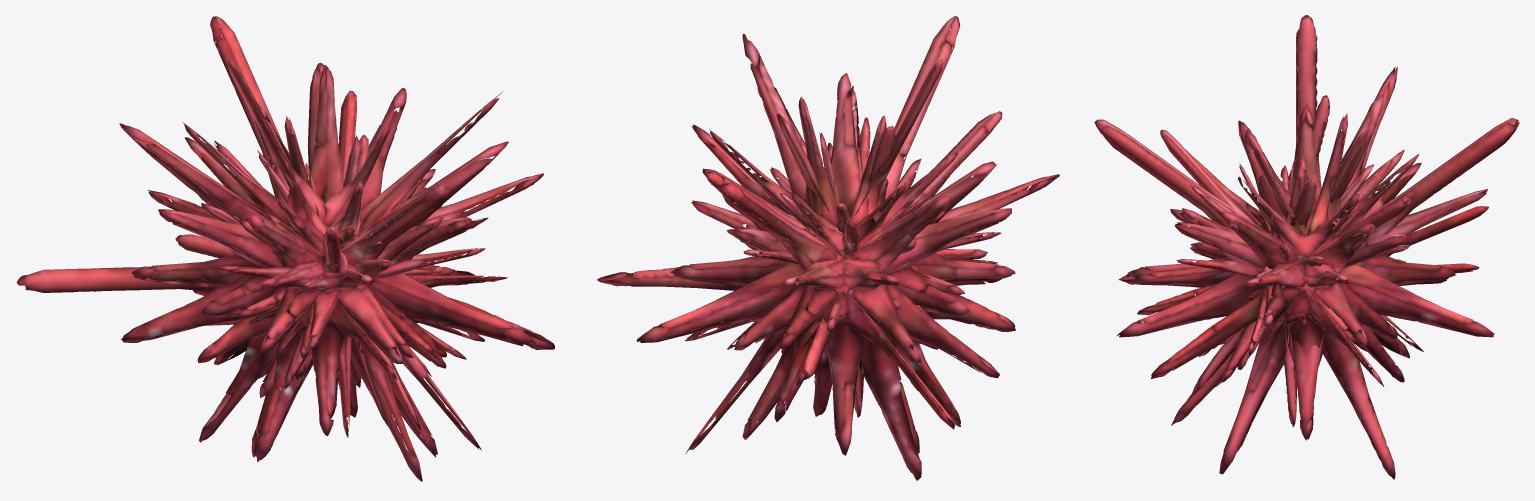
The model's file is TiberiumRojo.FBX.
The picture shows the model from 3 angles, left to right: view 1: azimuth 30°, elevation 25°; view 2: azimuth 150°, elevation 25°; view 3: azimuth 270°, elevation 25°; orthographic projection. The views are drawn at different scales.
Parts seen in each view (by area): view 1: GeoSphere02, GeoSphere03; view 2: GeoSphere02, GeoSphere03; view 3: GeoSphere02, GeoSphere03.
Part boxes in pixels (x1,y1,x2,y2): GeoSphere02: (16, 16, 554, 481); GeoSphere03: (175, 90, 507, 437); GeoSphere02: (597, 16, 1059, 480); GeoSphere03: (704, 86, 1002, 417); GeoSphere02: (1094, 15, 1519, 479); GeoSphere03: (1132, 95, 1479, 426).
Size of the model in its own units: 220829 by 214192 by 209975.
Materials: 1 (1 with a texture image).
